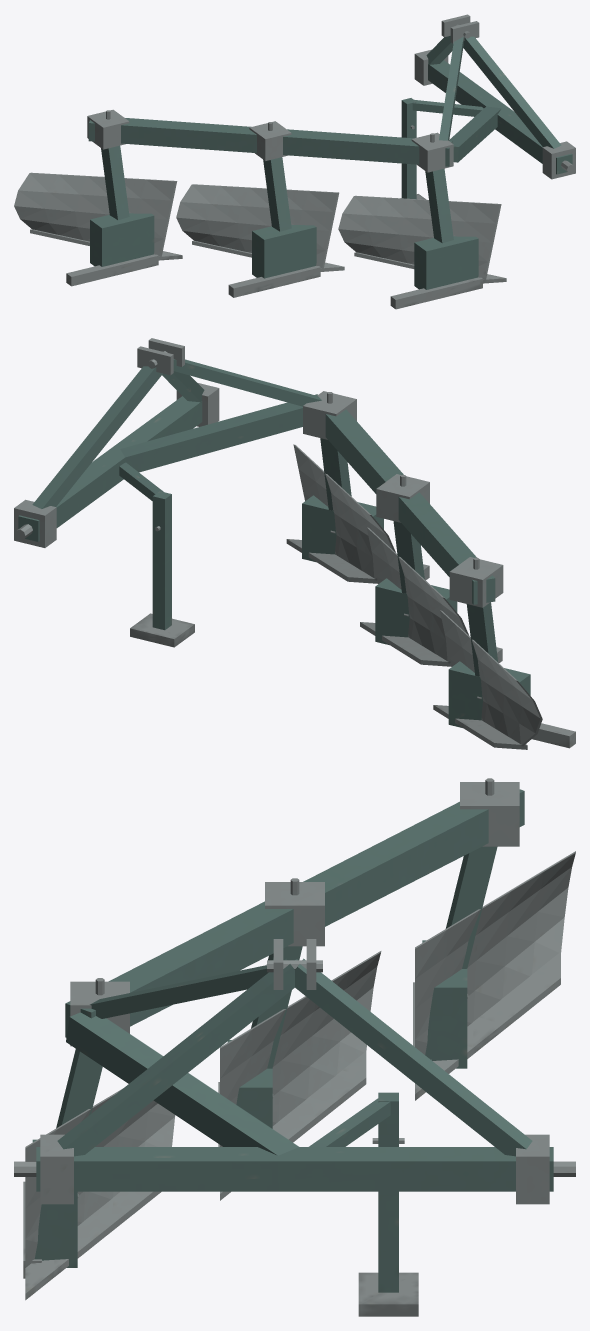
Rendered from farmland_plough_attachment_multi-furrow.glb.
3 views of the same model, one above another, from view 1: azimuth 30°, elevation 25°; view 2: azimuth 150°, elevation 25°; view 3: azimuth 270°, elevation 25° (orthographic). The views are drawn at different scales.
Visible parts, largest first — view 1: PloughMultiFurrow; view 2: PloughMultiFurrow; view 3: PloughMultiFurrow.
Part boxes in pixels (<box>): PloughMultiFurrow: <box>14,14,575,309</box>; PloughMultiFurrow: <box>14,338,575,749</box>; PloughMultiFurrow: <box>14,778,575,1316</box>.
Size of what is drawn, in the model's own units: 2.41 by 1.1 by 1.5.
Materials: 1 (1 with a texture image).
